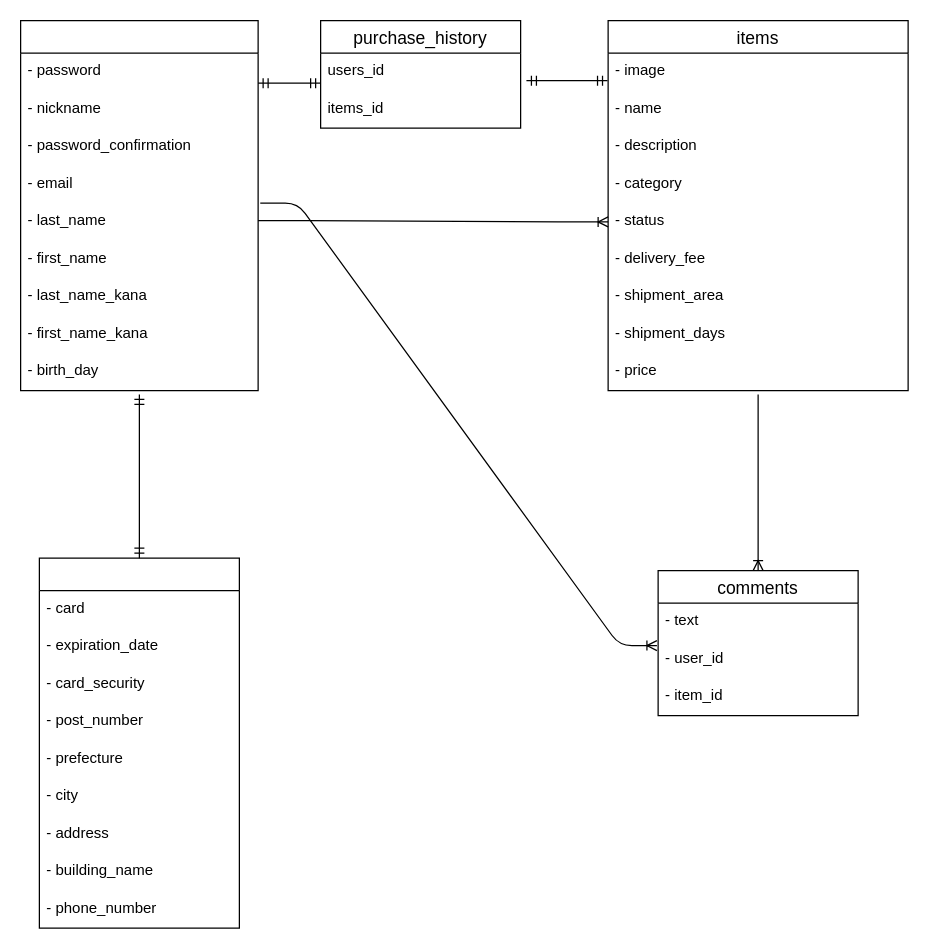
Some shapes in this 929 by 949 pixel diagram are drawn without their labels. Each missing label, with the box of its shape:
buyers: (38, 557, 239, 928)
users: (19, 19, 258, 391)
